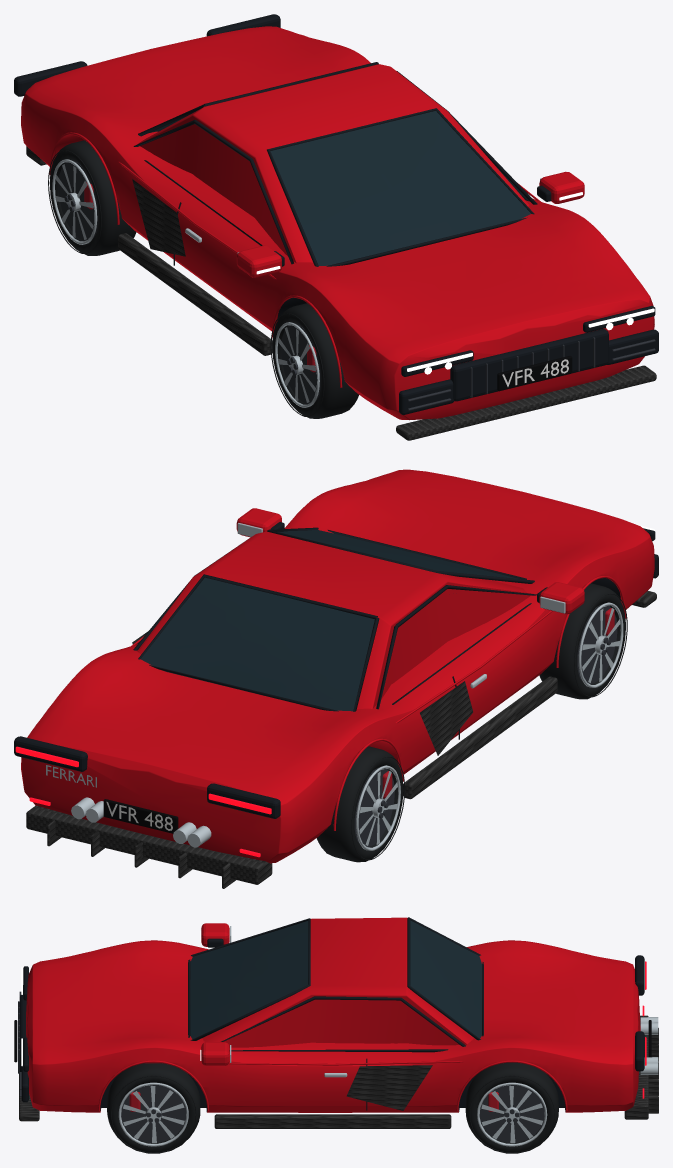
File: ferrari.glb
3 views of the same model, one above another, from view 1: azimuth 30°, elevation 25°; view 2: azimuth 150°, elevation 25°; view 3: azimuth 270°, elevation 25° (orthographic). The views are drawn at different scales.
Visible parts, largest first — view 1: body__Automotive clearcoat, body__Solar glass, body__Satin black trim, body__Carbon twill, wheel_FL.001__Tyre rubber, wheel_RL.001__Tyre rubber, wheel_RL.001__Graphite alloy, wheel_FL.001__Graphite alloy, wheel_RL.001__Machined aluminium, wheel_FL.001__Machined aluminium, body__Black registration plate, body__Graphite alloy (+1 smaller); view 2: body__Automotive clearcoat, body__Solar glass, body__Carbon twill, body__Satin black trim, wheel_RL.001__Tyre rubber, wheel_FL.001__Tyre rubber, body__Machined aluminium, wheel_FL.001__Machined aluminium, wheel_FL.001__Graphite alloy, wheel_RL.001__Machined aluminium, wheel_RL.001__Graphite alloy, body__Black registration plate (+1 smaller); view 3: body__Automotive clearcoat, body__Solar glass, body__Carbon twill, body__Satin black trim, wheel_RR.001__Tyre rubber, wheel_FR.001__Tyre rubber, wheel_RR.001__Graphite alloy, wheel_FR.001__Graphite alloy, wheel_FR.001__Machined aluminium, wheel_RR.001__Machined aluminium, body__Machined aluminium.
Part boxes in pixels (left/top/right/bottom): body__Automotive clearcoat: left=21, top=26, right=654, bottom=420; body__Solar glass: left=149, top=106, right=530, bottom=265; body__Satin black trim: left=14, top=14, right=658, bottom=414; body__Carbon twill: left=26, top=146, right=656, bottom=440; wheel_FL.001__Tyre rubber: left=270, top=303, right=358, bottom=418; wheel_RL.001__Tyre rubber: left=48, top=140, right=136, bottom=255; wheel_RL.001__Graphite alloy: left=58, top=162, right=98, bottom=240; wheel_FL.001__Graphite alloy: left=281, top=324, right=320, bottom=403; wheel_RL.001__Machined aluminium: left=52, top=159, right=97, bottom=244; wheel_FL.001__Machined aluminium: left=275, top=322, right=319, bottom=407; body__Black registration plate: left=497, top=356, right=572, bottom=391; body__Graphite alloy: left=408, top=337, right=655, bottom=410; body__Automotive clearcoat: left=21, top=469, right=654, bottom=863; body__Solar glass: left=141, top=530, right=520, bottom=711; body__Carbon twill: left=26, top=591, right=656, bottom=888; body__Satin black trim: left=14, top=522, right=658, bottom=818; wheel_RL.001__Tyre rubber: left=316, top=746, right=404, bottom=862; wheel_FL.001__Tyre rubber: left=539, top=583, right=627, bottom=699; body__Machined aluminium: left=46, top=523, right=565, bottom=847; wheel_FL.001__Machined aluminium: left=578, top=602, right=623, bottom=687; wheel_FL.001__Graphite alloy: left=577, top=604, right=617, bottom=684; wheel_RL.001__Machined aluminium: left=356, top=765, right=400, bottom=850; wheel_RL.001__Graphite alloy: left=354, top=767, right=394, bottom=847; body__Black registration plate: left=103, top=799, right=178, bottom=833; body__Automotive clearcoat: left=26, top=917, right=640, bottom=1112; body__Solar glass: left=190, top=920, right=481, bottom=1039; body__Carbon twill: left=19, top=1015, right=658, bottom=1128; body__Satin black trim: left=19, top=917, right=644, bottom=1110; wheel_RR.001__Tyre rubber: left=465, top=1062, right=558, bottom=1153; wheel_FR.001__Tyre rubber: left=107, top=1063, right=200, bottom=1153; wheel_RR.001__Graphite alloy: left=479, top=1085, right=544, bottom=1142; wheel_FR.001__Graphite alloy: left=121, top=1085, right=186, bottom=1142; wheel_FR.001__Machined aluminium: left=118, top=1082, right=188, bottom=1146; wheel_RR.001__Machined aluminium: left=477, top=1082, right=547, bottom=1146; body__Machined aluminium: left=230, top=926, right=658, bottom=1077.
Bounding box in the file's own units: 2.3 × 1.19 × 4.77.
Materials: 13 (1 with a texture image).
